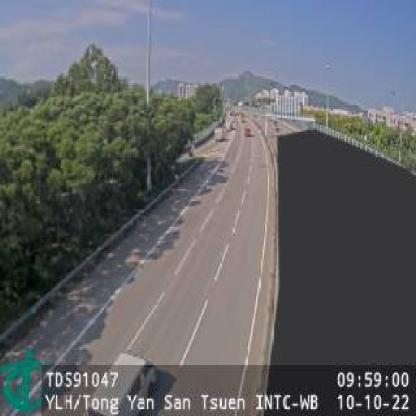Car: (91, 350, 155, 414)
